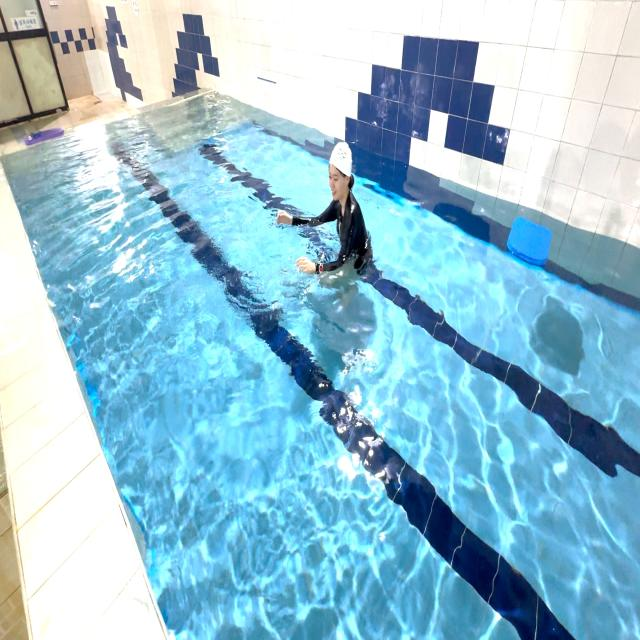Swimming: (272, 114, 401, 340)
